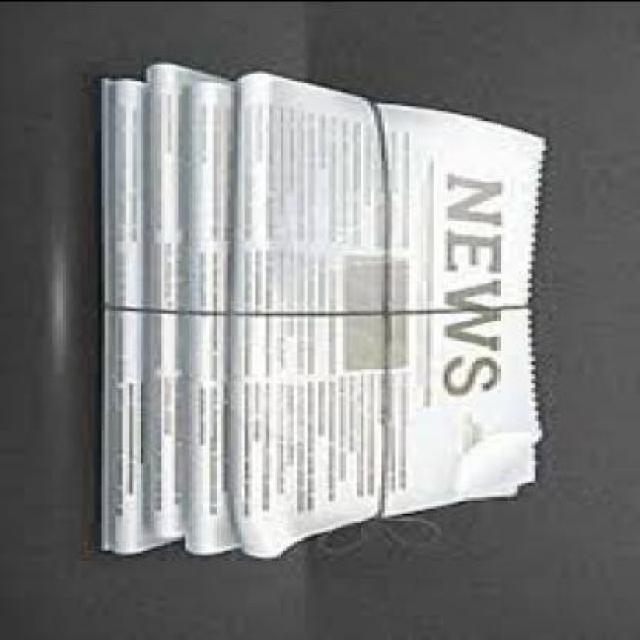PAPER: (231, 68, 552, 554), (140, 58, 231, 540), (178, 74, 231, 548), (104, 72, 154, 550)
